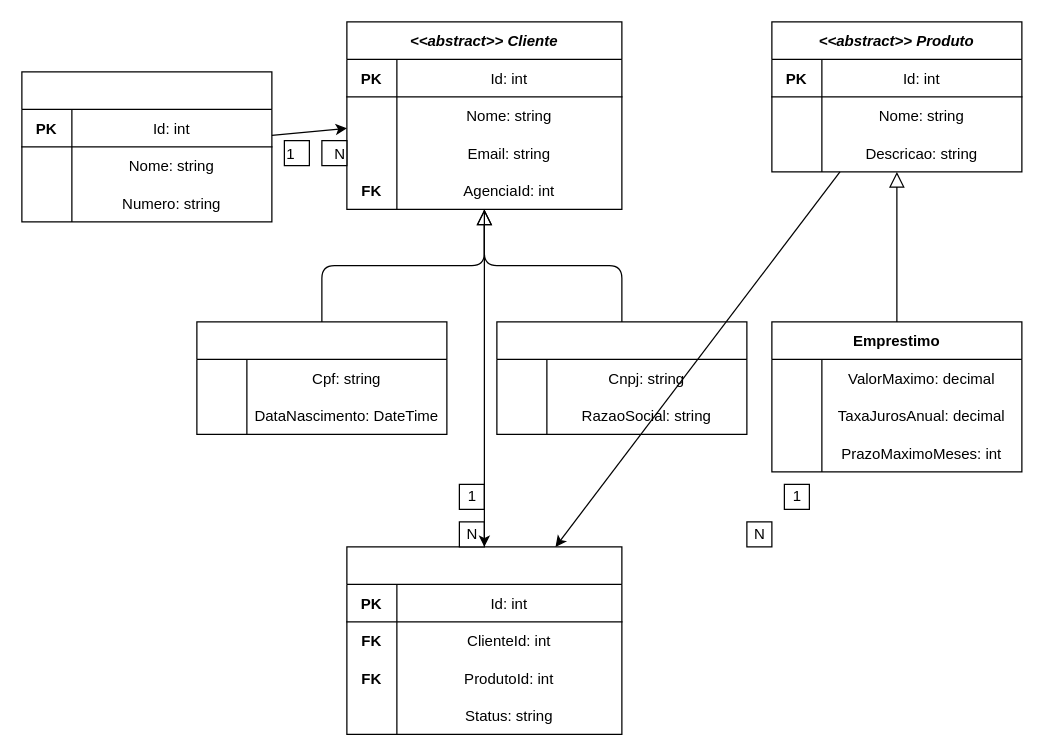
Some shapes in this 1044 by 756 pixel diagram are drawn without their labels. Each missing label, with the box of its shape:
Agencia: (21, 71, 272, 222)
Contratacao: (346, 546, 622, 734)
PessoaFisica: (196, 321, 447, 434)
PessoaJuridica: (496, 321, 747, 434)
